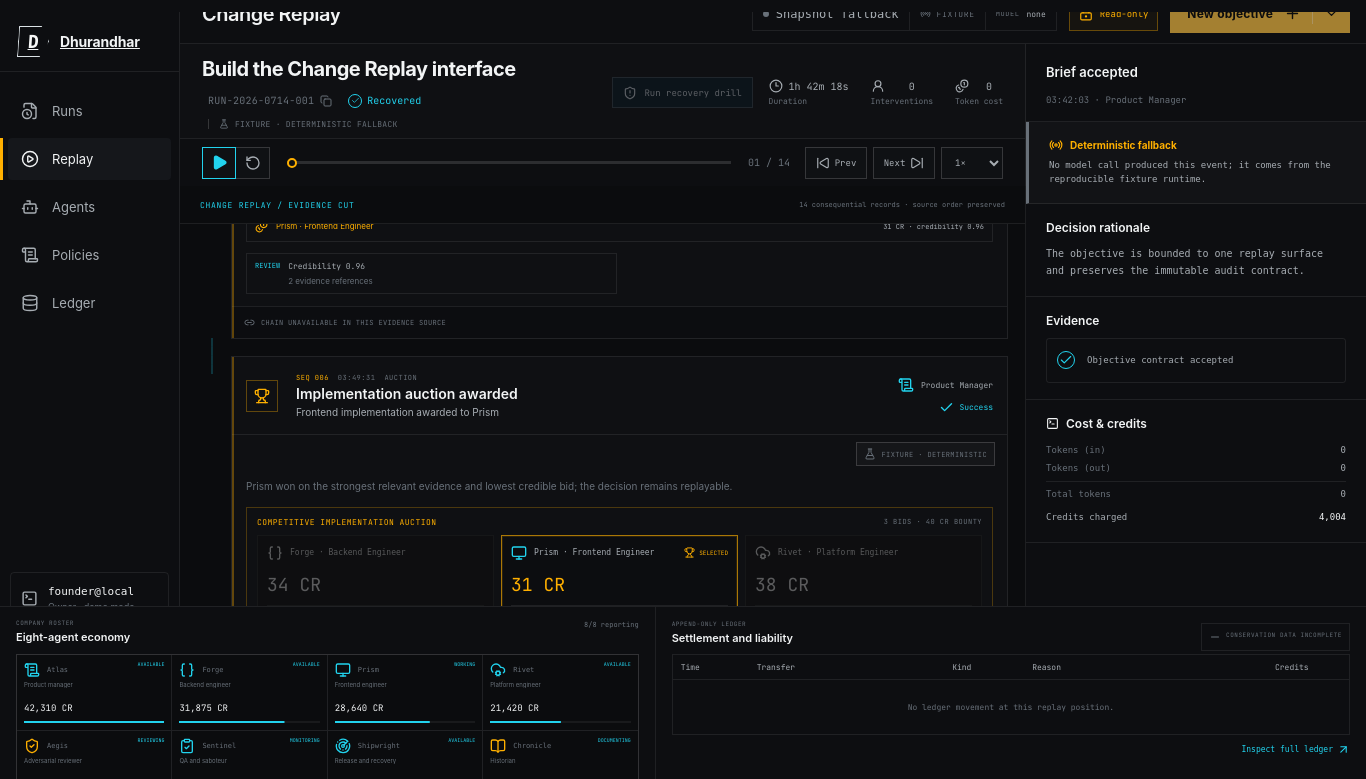
Scenario: Dhurandhar replay › replays competitive bids and the winning engineer
(page scrolled)
Click the button "Frontend implementation awarded to Prism": (262, 396) [232,357,1007,435]
(page scrolled)
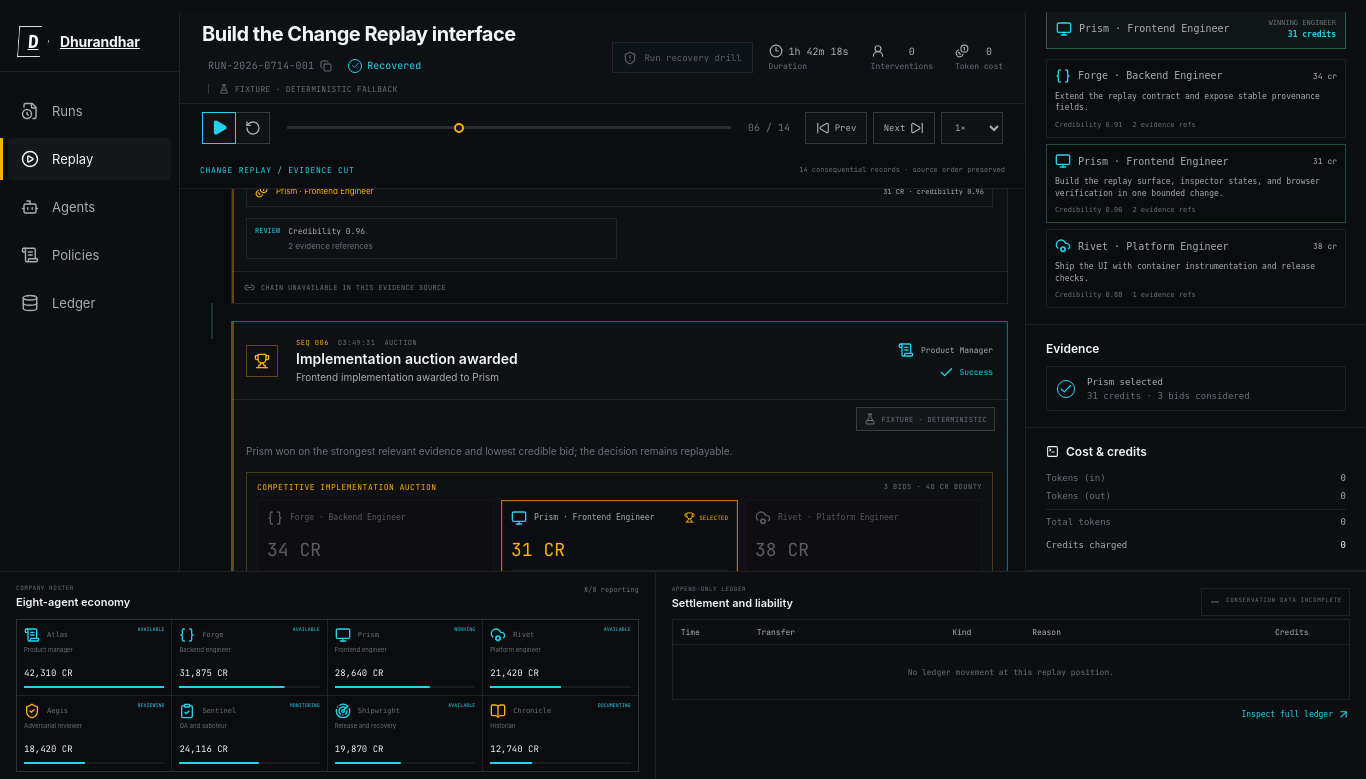
Check: the text "Prism · Frontend Engineer" in the row of "CR · credibility" is shown, box [276,186,374,196]
Check: the text "Winning engineer" is shown, box [1269,19,1336,27]
Check: the text "31 credits · 3 bids considered" is shown, box [1087,391,1250,401]
